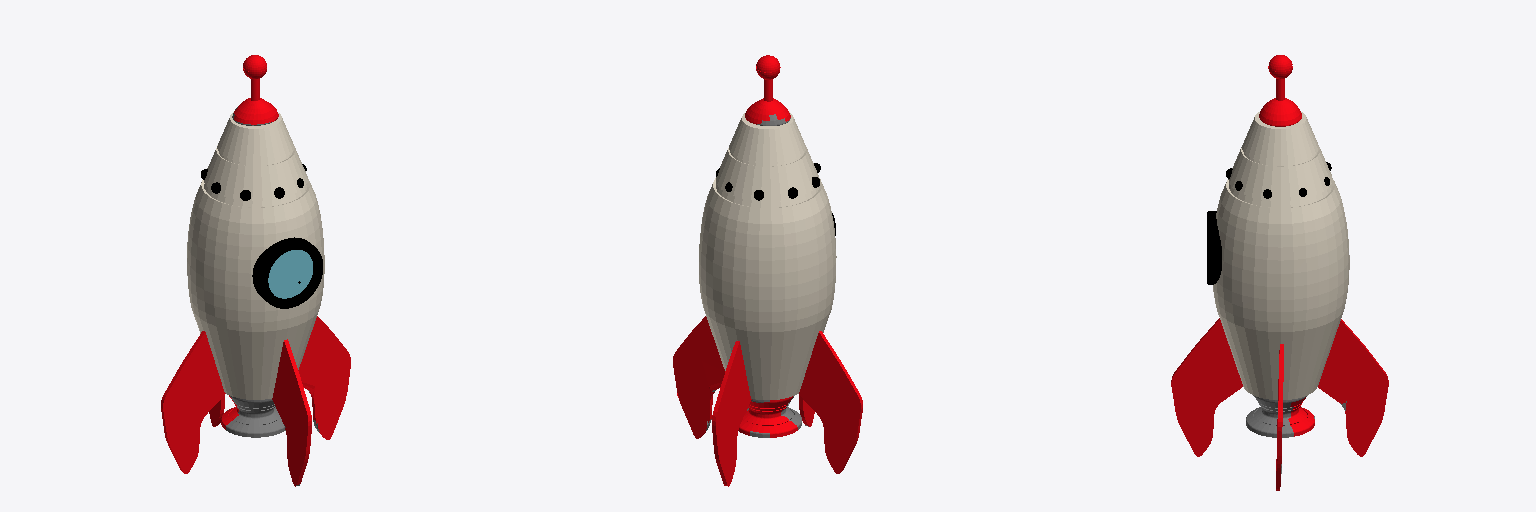
The picture shows the model from 3 angles: view 1: azimuth 30°, elevation 25°; view 2: azimuth 150°, elevation 25°; view 3: azimuth 270°, elevation 25°; orthographic projection.
Parts seen in each view (by area): view 1: rocket3:Mesh; view 2: rocket3:Mesh; view 3: rocket3:Mesh.
Part boxes in pixels (bbox=[...]): rocket3:Mesh: bbox=[161, 55, 350, 486]; rocket3:Mesh: bbox=[673, 55, 862, 486]; rocket3:Mesh: bbox=[1171, 55, 1388, 490].
Bounding box in the file's own units: 0.3741 × 0.7598 × 0.3741.
15 materials, 3 textured.